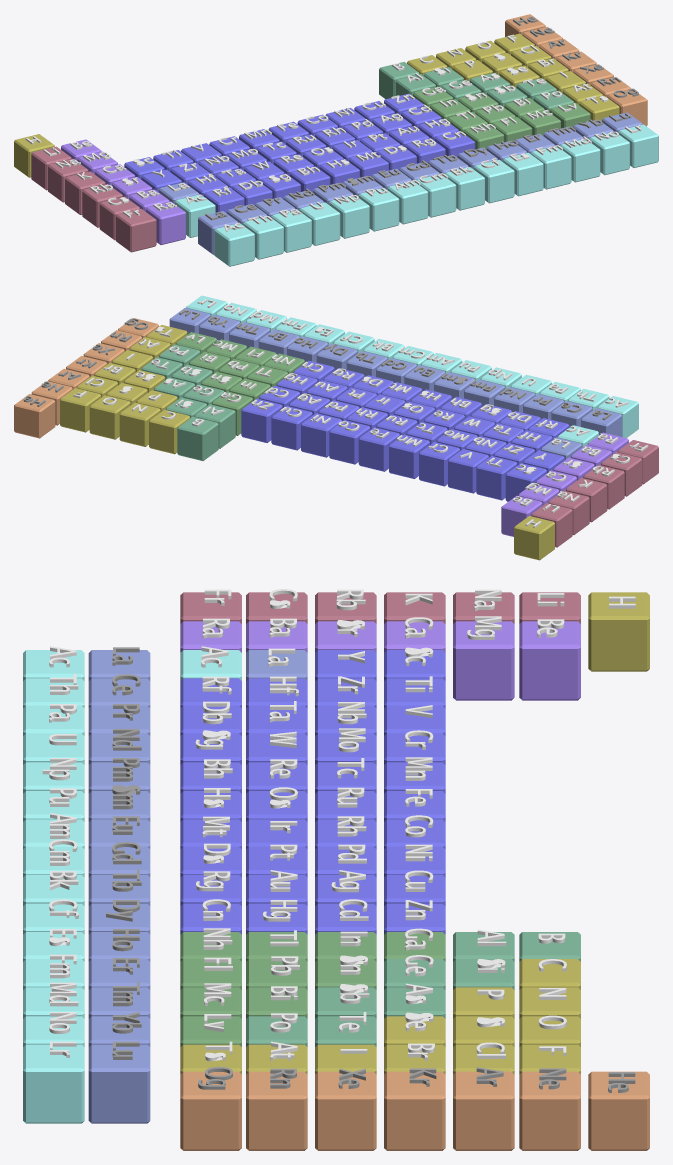
Rendered from PeriodicTable_NotExpanded.fbx.
The picture shows the model from 3 angles, top to bottom: view 1: azimuth 30°, elevation 25°; view 2: azimuth 150°, elevation 25°; view 3: azimuth 270°, elevation 25°; orthographic projection. The views are drawn at different scales.
Visible parts, largest first — view 1: Fr_geo, Ac_geo, Pu_geo, Cf_geo, U_geo, Es_geo, Lr_geo, Am_geo, Th_geo, Ra_geo, No_geo, Np_geo (+107 smaller); view 2: pCube23, H_geo, He_geo, O_geo, F_geo, N_geo, Fe_geo, Ti_geo, Zn_geo, V_geo, Co_geo, Cu_geo (+107 smaller); view 3: Lu_geo, Lr_geo, H_geo, Kr_geo, Ar_geo, Xe_geo, Be_geo, Rn_geo, Ne_geo, Og_geo, He_geo, Mg_geo (+108 smaller).
Boxes of the visible parts, bbox=[...] form: Fr_geo: bbox=[116, 208, 156, 252]; Ac_geo: bbox=[214, 223, 254, 266]; Pu_geo: bbox=[358, 188, 399, 231]; Cf_geo: bbox=[474, 159, 514, 203]; U_geo: bbox=[299, 202, 340, 245]; Es_geo: bbox=[503, 152, 543, 196]; Lr_geo: bbox=[618, 124, 658, 167]; Am_geo: bbox=[387, 181, 428, 224]; Th_geo: bbox=[243, 216, 283, 259]; Ra_geo: bbox=[145, 201, 185, 244]; No_geo: bbox=[589, 133, 629, 175]; Np_geo: bbox=[329, 196, 369, 238]; pCube23: bbox=[177, 416, 218, 460]; H_geo: bbox=[514, 516, 554, 560]; He_geo: bbox=[14, 394, 55, 438]; O_geo: bbox=[89, 395, 130, 439]; F_geo: bbox=[60, 388, 101, 432]; N_geo: bbox=[119, 402, 160, 446]; Fe_geo: bbox=[358, 427, 399, 471]; Ti_geo: bbox=[476, 456, 517, 500]; Zn_geo: bbox=[241, 398, 282, 442]; V_geo: bbox=[448, 449, 488, 493]; Co_geo: bbox=[329, 420, 370, 464]; Cu_geo: bbox=[271, 406, 312, 450]; Lu_geo: bbox=[88, 1044, 150, 1123]; Lr_geo: bbox=[23, 1044, 84, 1123]; H_geo: bbox=[588, 592, 649, 671]; Kr_geo: bbox=[384, 1071, 445, 1150]; Ar_geo: bbox=[453, 1071, 514, 1150]; Xe_geo: bbox=[315, 1071, 376, 1150]; Be_geo: bbox=[519, 621, 580, 700]; Rn_geo: bbox=[246, 1071, 307, 1150]; Ne_geo: bbox=[519, 1071, 580, 1150]; Og_geo: bbox=[180, 1071, 241, 1150]; He_geo: bbox=[588, 1071, 649, 1150]; Mg_geo: bbox=[453, 621, 514, 700].
Size of the model in its own units: 48.56 by 2.8 by 25.46.
